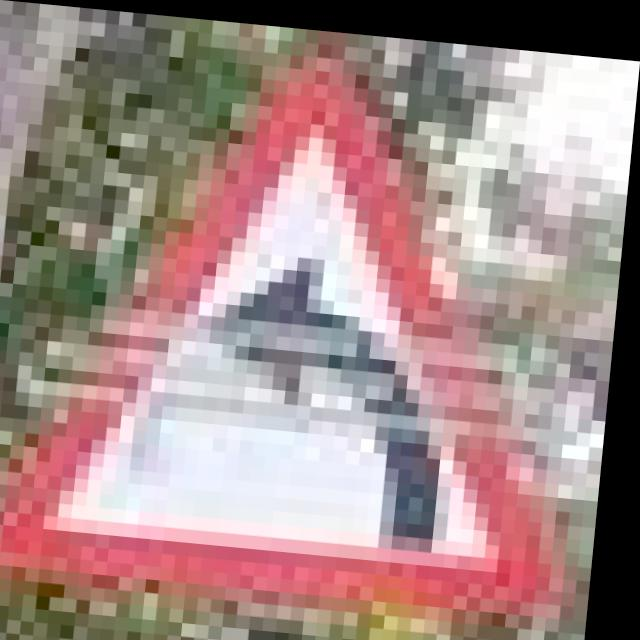LEFT_HAND_CURVE: (0, 32, 601, 614)
